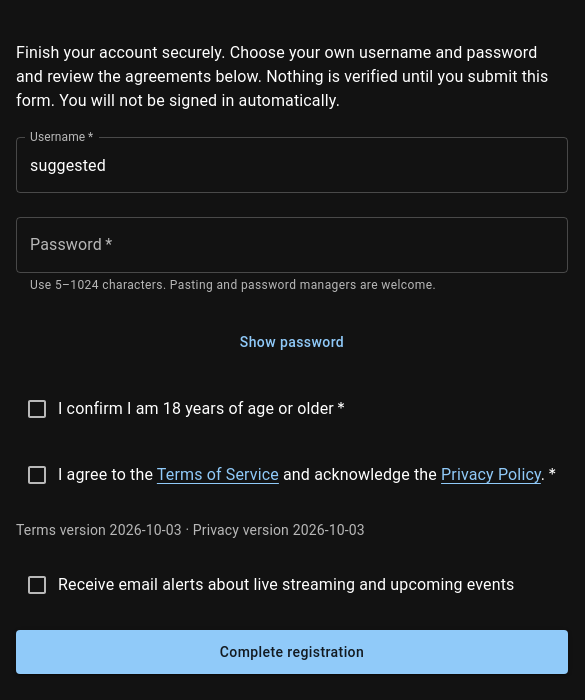
Test case: scrubs fragment, only reads info on mount, and requires fresh choices before completion
The image size is (585, 700).
(page scrolled)
Check: the field labelled "Username *" holds "suggested", box [16,137,568,193]
Check: the checkbox labelled "Receive email alerts" is not checked, box [25,573,514,597]
Submit the form named "Complete registration"
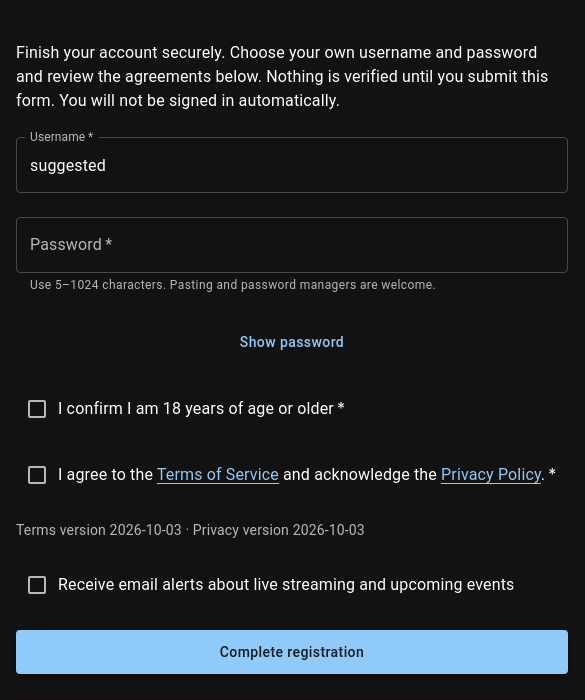
Replace the text in the field labelled "Username *" with "fresh-choice" at (292, 165), box [16,137,568,193]
Type "fresh password 123" into the password field labelled "Password *".
click(292, 245); type("fresh password 123")  # box [16,217,568,273]
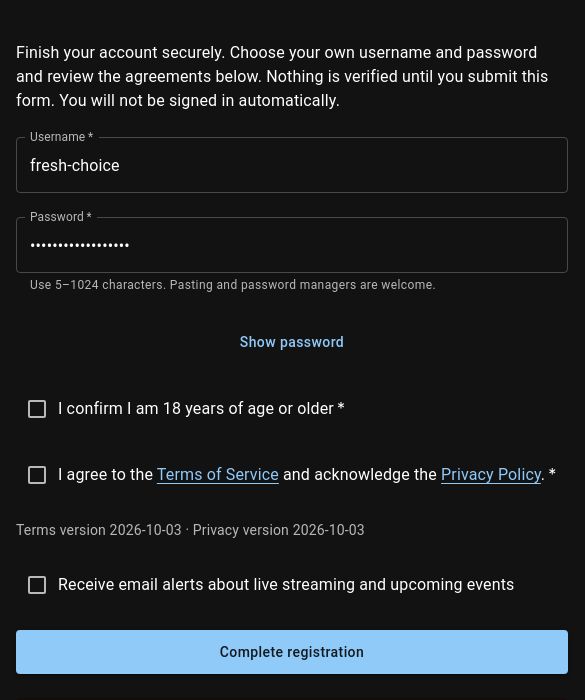
Click the checkbox labelled "I confirm I am 18 years of age or older *".
click(185, 409)  # box [25,397,345,421]
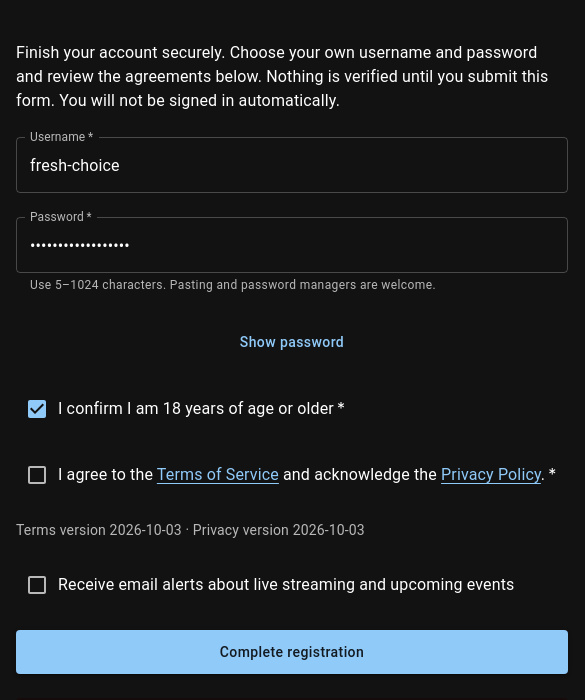
Click the checkbox labelled "I agree".
click(291, 475)  # box [25,463,556,487]
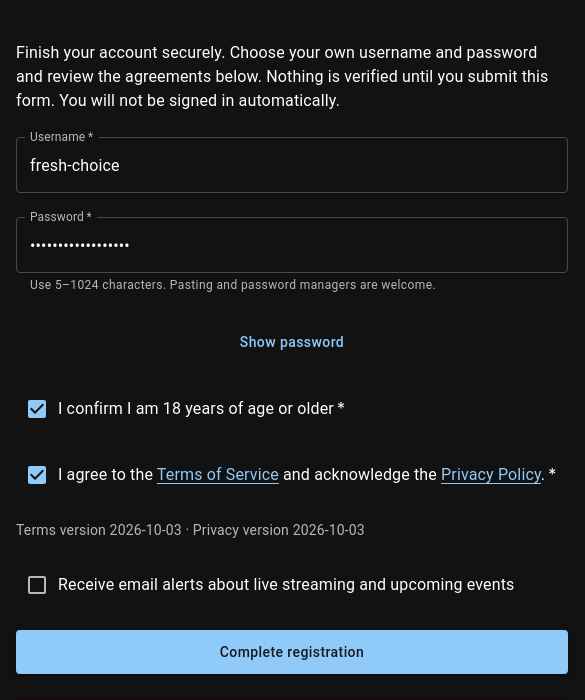
Click the button "Complete registration".
click(292, 652)  # box [16,630,568,674]
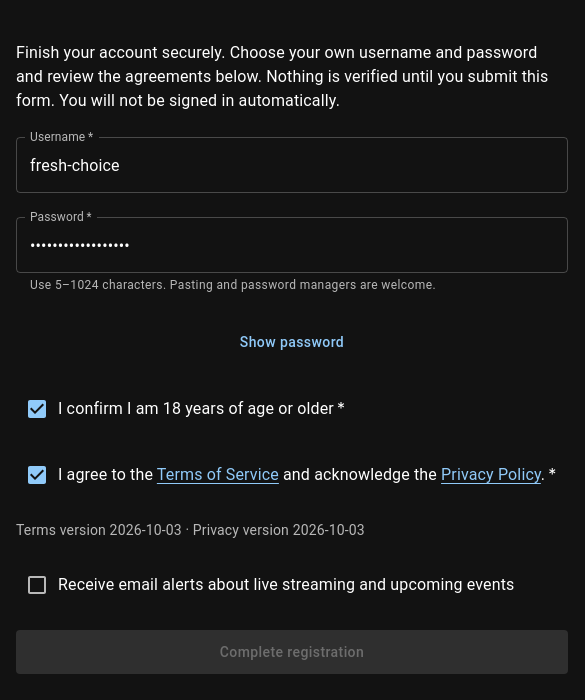
Click the button "Complete registration".
click(292, 652)  # box [16,630,568,674]
(page scrolled)
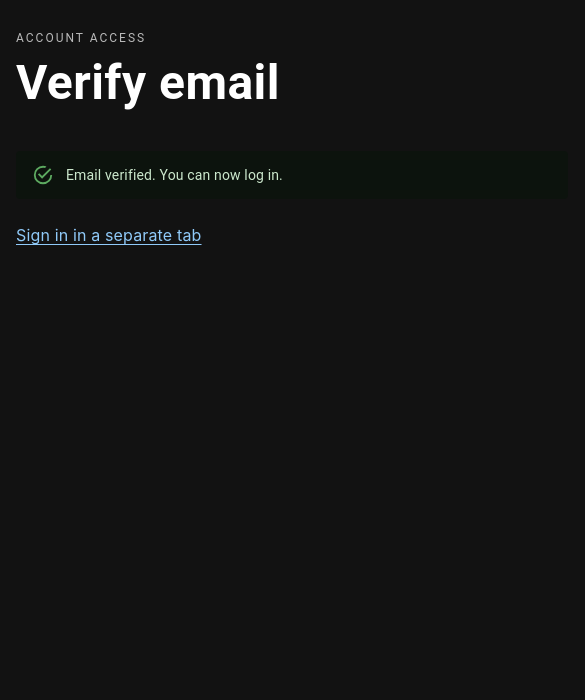
Check: the text "Email verified. You can now log in." is shown, box [66,167,283,183]
